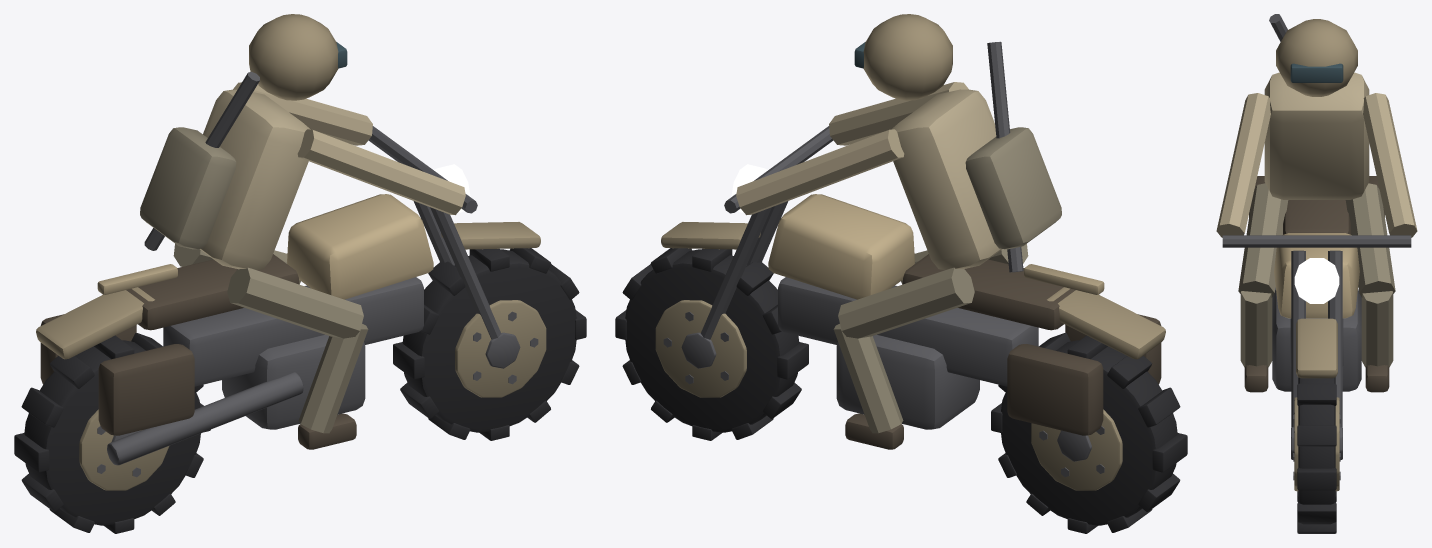
Rendered from motorcycle.glb.
The picture shows the model from 3 angles, left to right: view 1: azimuth 30°, elevation 25°; view 2: azimuth 150°, elevation 25°; view 3: azimuth 270°, elevation 25°; orthographic projection. The views are drawn at different scales.
Visible parts, largest first — view 1: hull, wheel_F, wheel_B; view 2: hull, wheel_F, wheel_B; view 3: hull, wheel_F.
Boxes of the visible parts, x1,y1,x2,y2 form: hull: [36, 14, 540, 465]; wheel_F: [393, 248, 586, 440]; wheel_B: [14, 333, 210, 533]; hull: [661, 14, 1165, 449]; wheel_F: [615, 248, 808, 440]; wheel_B: [991, 333, 1187, 533]; hull: [1216, 14, 1417, 427]; wheel_F: [1291, 377, 1342, 533].
Bounding box in the file's own units: 2.19 × 1.75 × 0.7678.
